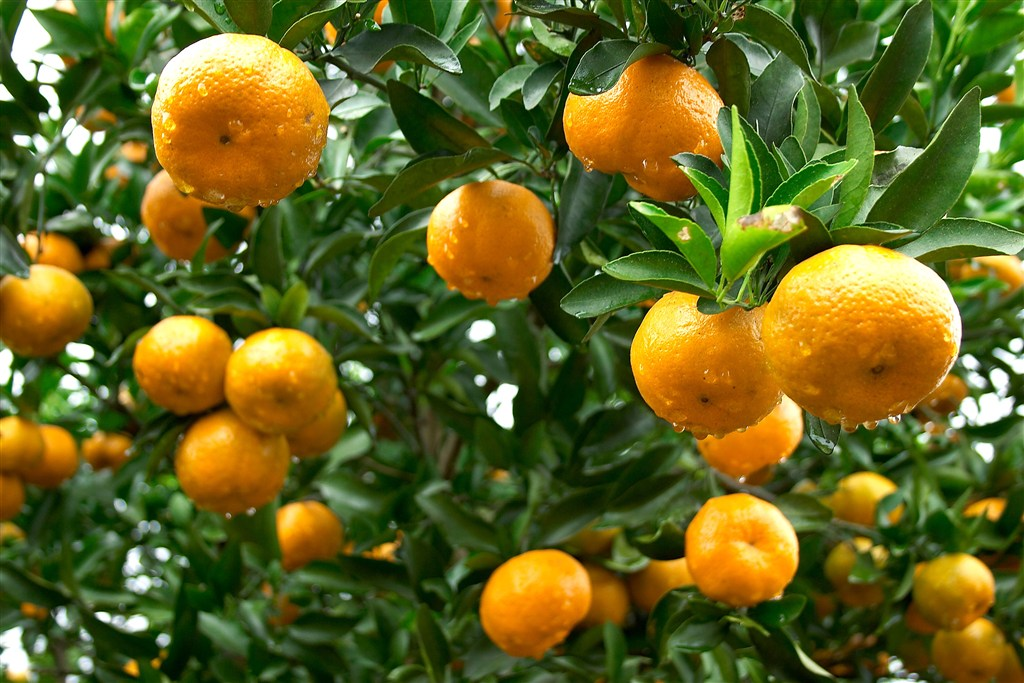orange: (764, 241, 961, 424), (154, 34, 331, 201), (630, 284, 784, 437), (564, 44, 724, 173), (425, 178, 550, 298), (687, 493, 798, 603), (140, 162, 255, 264), (174, 410, 291, 509), (223, 327, 331, 432), (482, 550, 589, 654), (696, 373, 804, 474), (134, 316, 231, 412), (1, 265, 94, 351), (274, 370, 353, 451), (913, 551, 994, 627), (272, 497, 346, 562), (833, 470, 902, 534), (26, 423, 79, 482), (828, 539, 884, 593), (1, 418, 50, 470)
